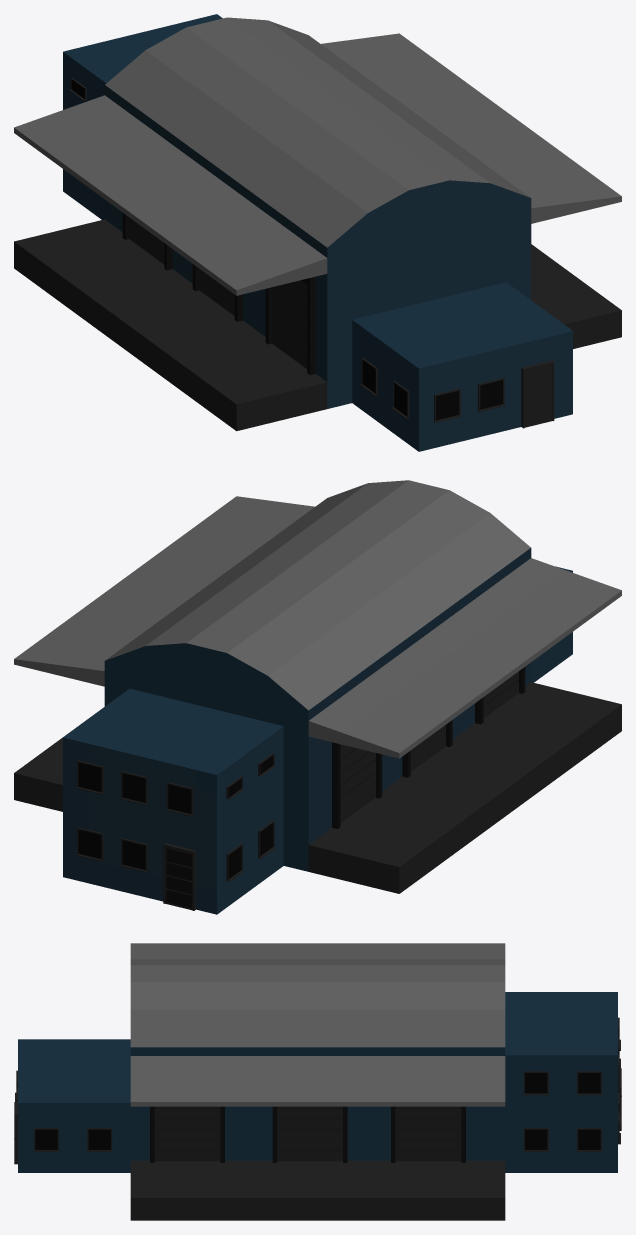
File: SM_warehouse_03V2.FBX
3 views of the same model, one above another, from view 1: azimuth 30°, elevation 25°; view 2: azimuth 150°, elevation 25°; view 3: azimuth 270°, elevation 25° (orthographic). The views are drawn at different scales.
Parts seen in each view (by area): view 1: Warehouse03V2; view 2: Warehouse03V2; view 3: Warehouse03V2.
Part boxes in pixels (x1,y1,x2,y2): Warehouse03V2: (14, 14, 621, 451); Warehouse03V2: (14, 480, 621, 914); Warehouse03V2: (14, 943, 621, 1220).
Size of the model in its own units: 1500 by 740 by 2433.
